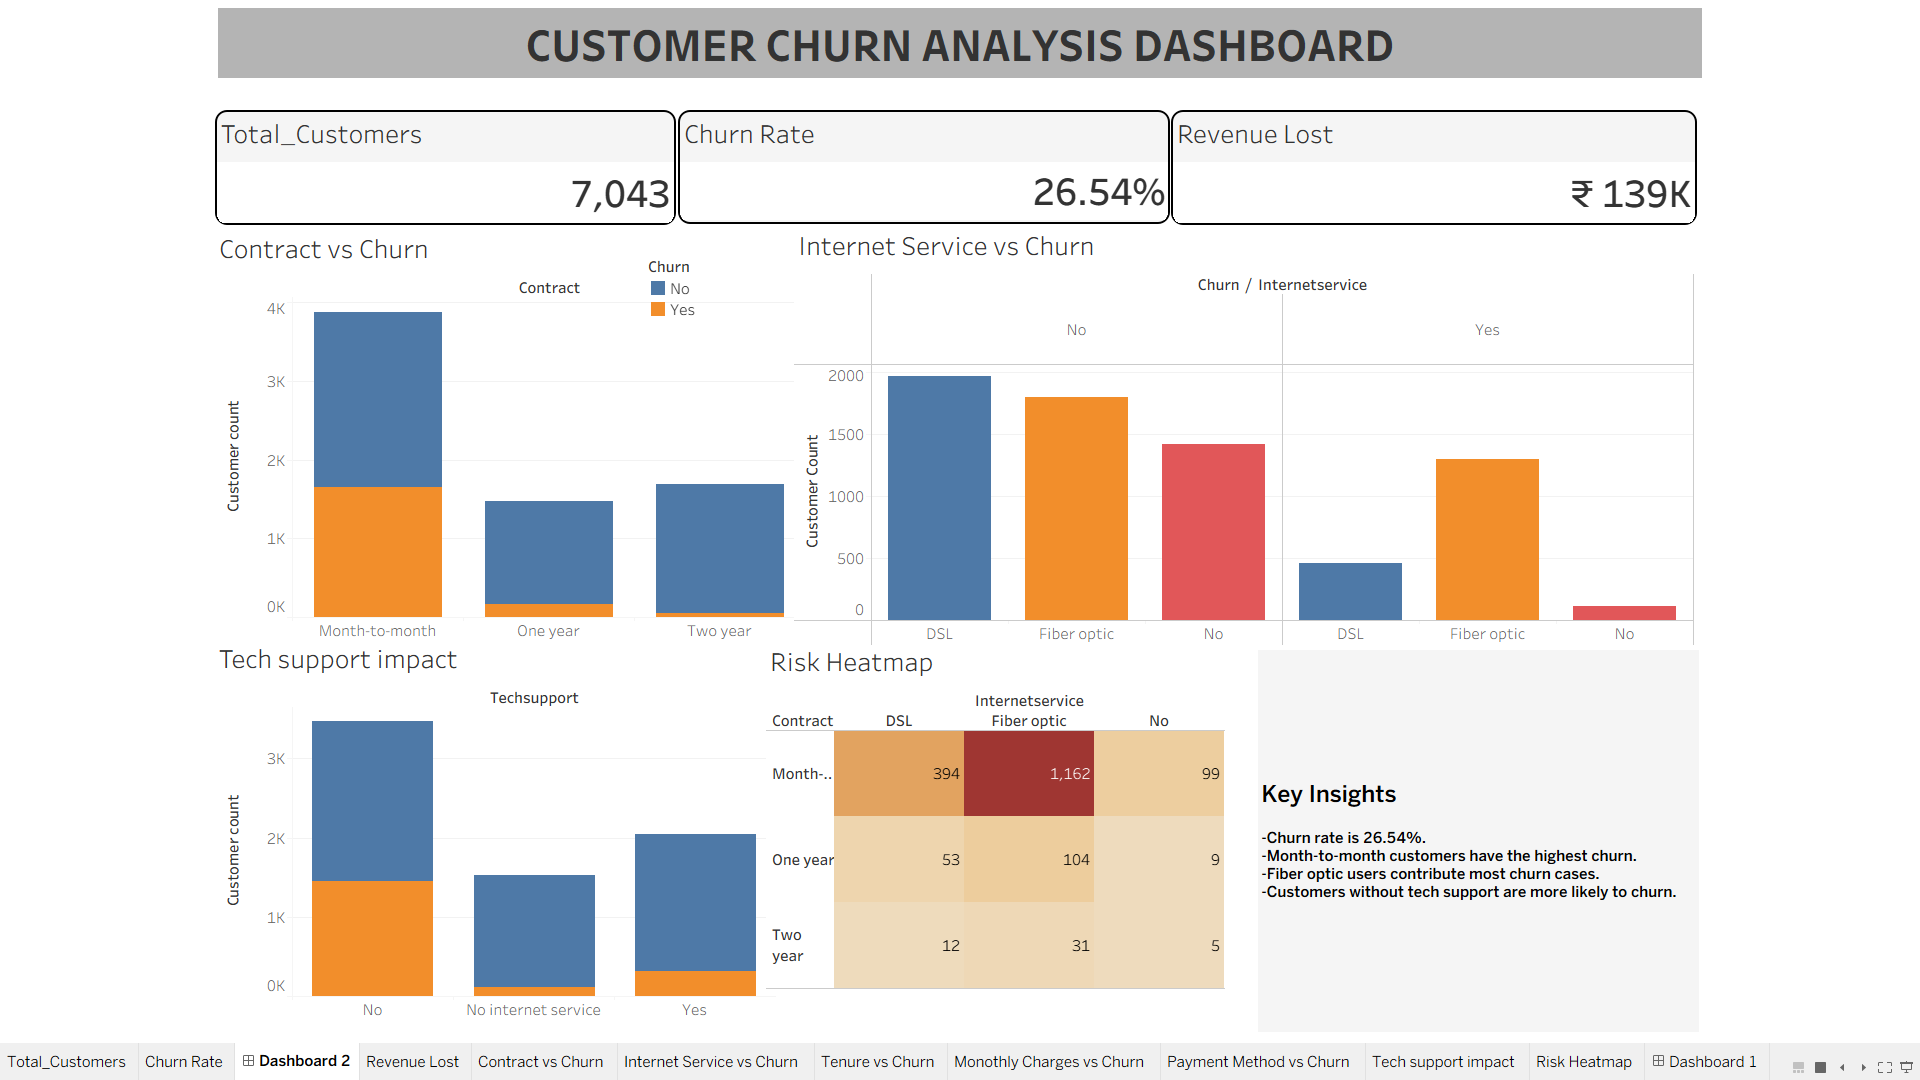

What the dashboard file says about the page in this screenshot:
{"tool":"tableau","page":{"name":"Dashboard 2","canvas":[1000,1000],"units":"permille","ordinal":1},"visuals":[{"type":"title","box":[5.3,9.3,989.3,81.2]},{"type":"worksheet","title":"Total_Customers","mark":"Text","box":[3.3,105.8,307.5,110.5]},{"type":"worksheet","title":"Churn Rate","mark":"Automatic","box":[311.7,105.8,328.3,109.3]},{"type":"worksheet","title":"Revenue Lost","mark":"Automatic","box":[640.8,105.8,350.8,110.5]},{"type":"worksheet","title":"Internet Service vs Churn","mark":"Automatic","rows":["cleaned_churn.csv_EA0398DE01BC44C5BDC73EFB6A364D10"],"cols":["churn","internetservice"],"box":[389.2,215.1,600,404.7]},{"type":"worksheet","title":"Contract vs Churn","mark":"Automatic","rows":["cleaned_churn.csv_EA0398DE01BC44C5BDC73EFB6A364D10"],"cols":["contract"],"box":[3.3,217.4,394.2,397.7]},{"type":"legend","title":"Contract vs Churn","param":"[federated.019dpy90wexpxb1ed8v7b1kmslva].[none:churn:nk]","box":[291.7,245.3,92.5,74.4]},{"type":"worksheet","title":"Tech support impact","mark":"Automatic","rows":["cleaned_churn.csv_EA0398DE01BC44C5BDC73EFB6A364D10"],"cols":["techsupport"],"box":[3.3,610.5,374.2,382.6]},{"type":"worksheet","title":"Risk Heatmap","mark":"Square","rows":["contract"],"cols":["internetservice"],"box":[370.8,614,369.2,376.7]},{"type":"text","box":[698.7,623,294,366.6]}]}

Visuals, with their boxes on the dashboard's canvas, which has no fixed pixel size, in thousandths of its width and height (x1, y1, x2, y2). These are canvas units, not pixel positions in the 1920x1080 screenshot, which may show the page scaled, cropped or inside an application window:
title: left=5, top=9, right=995, bottom=90
"Total_Customers" worksheet (Text marks): left=3, top=106, right=311, bottom=216
"Churn Rate" worksheet: left=312, top=106, right=640, bottom=215
"Revenue Lost" worksheet: left=641, top=106, right=992, bottom=216
"Internet Service vs Churn" worksheet: left=389, top=215, right=989, bottom=620
"Contract vs Churn" worksheet: left=3, top=217, right=398, bottom=615
"Contract vs Churn" legend: left=292, top=245, right=384, bottom=320
"Tech support impact" worksheet: left=3, top=610, right=378, bottom=993
"Risk Heatmap" worksheet (Square marks): left=371, top=614, right=740, bottom=991
text: left=699, top=623, right=993, bottom=990
